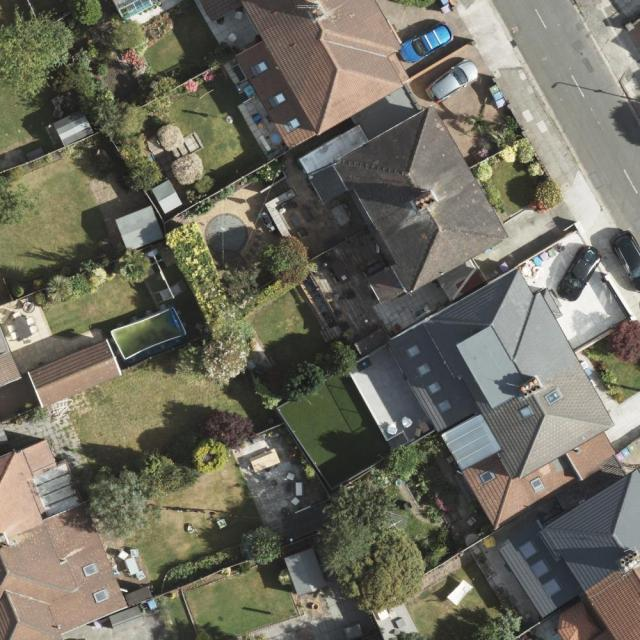roof: (388, 268, 640, 640), (307, 107, 509, 308), (199, 0, 410, 150), (0, 437, 130, 640), (25, 338, 123, 411), (0, 323, 22, 388)
skylight: (517, 539, 541, 561), (530, 559, 552, 581), (541, 576, 563, 598), (517, 403, 538, 422), (544, 387, 565, 406), (284, 115, 302, 134), (528, 475, 546, 494), (252, 59, 269, 78), (479, 468, 496, 487), (425, 379, 443, 396), (269, 91, 288, 107), (405, 342, 421, 360), (417, 360, 433, 378), (92, 588, 111, 603), (82, 563, 99, 578), (439, 397, 453, 413)
